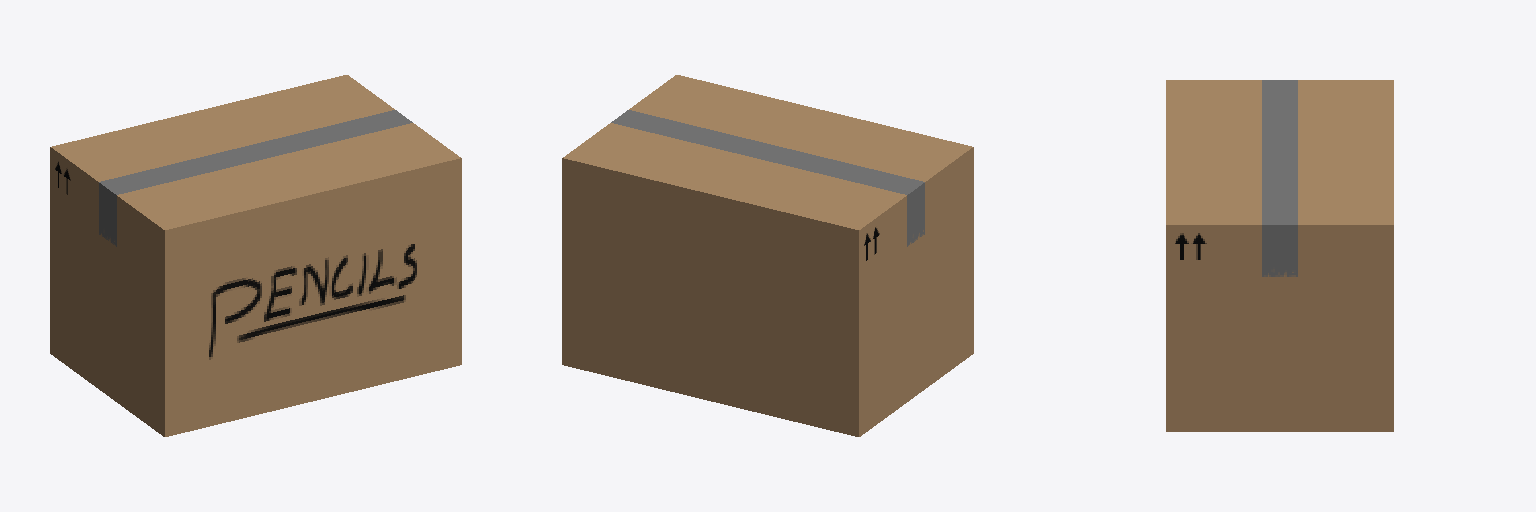
3 renders of one model, left to right at view 1: azimuth 30°, elevation 25°; view 2: azimuth 150°, elevation 25°; view 3: azimuth 270°, elevation 25°, orthographic.
Visible parts, largest first — view 1: Cube; view 2: Cube; view 3: Cube.
Boxes of the visible parts, <box> form: Cube: <box>50,75,461,436</box>; Cube: <box>562,75,973,436</box>; Cube: <box>1166,80,1393,431</box>.
Size of the model in its own units: 1.5 by 1 by 1.
Materials: 1 (1 with a texture image).